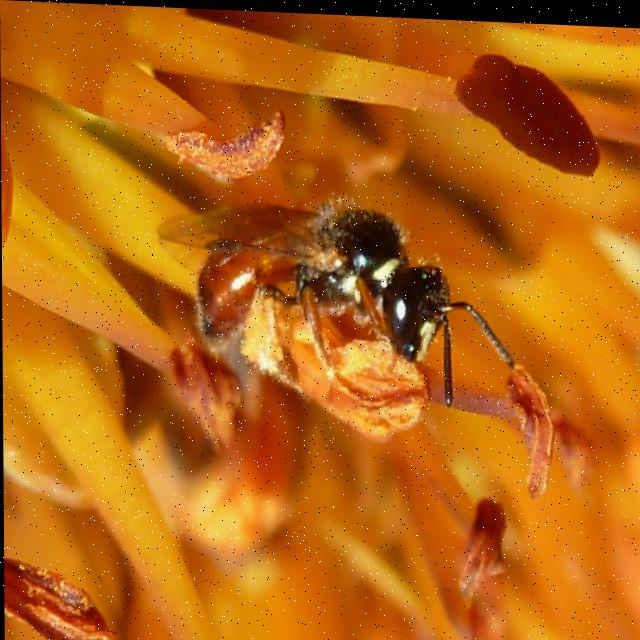Allodapula: (161, 168, 528, 409)
